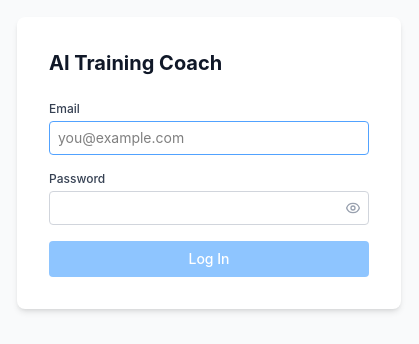
Test: LoginPage form behavior and error states › shows "Service locked. Contact administrator." on 503 response
In the field labelled "Email": coordinates (209, 138) [49,121,369,155], type "user@example.com"
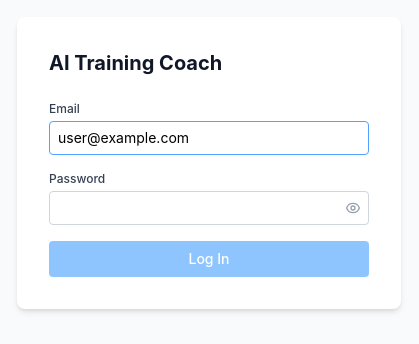
In the password field labelled "Password": coordinates (209, 208) [49,191,369,225], type "password123"
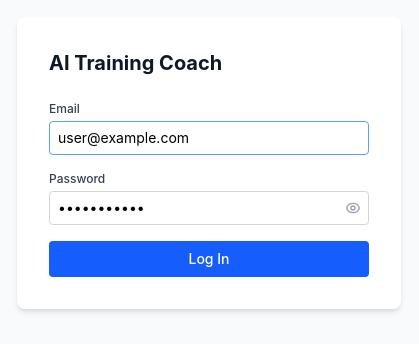
Click the button "Log In": coordinates (209, 259) [49,241,369,277]
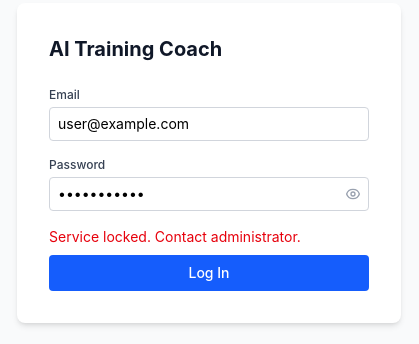
Now the text "Service locked. Contact administrator." is shown, box [49,228,301,245]
